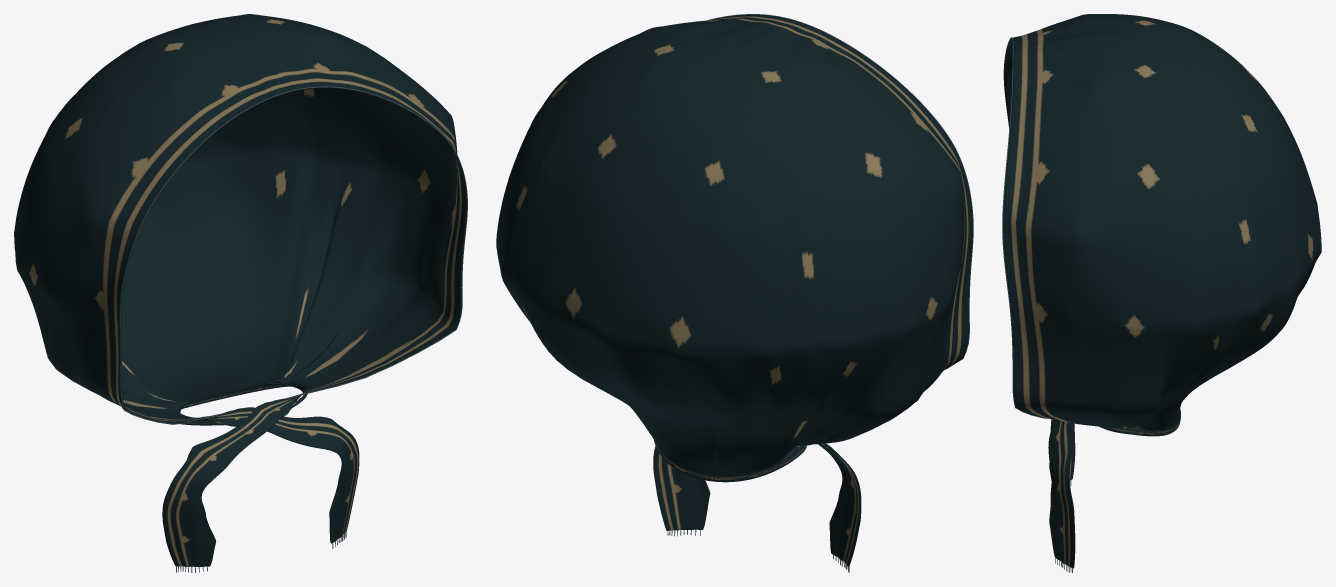
The model's file is Masculine-locs-shirtless-pashmina249-headgear.glb.
3 views of the same model, side by side, from view 1: azimuth 30°, elevation 25°; view 2: azimuth 150°, elevation 25°; view 3: azimuth 270°, elevation 25° (orthographic). The views are drawn at different scales.
Visible parts, largest first — view 1: 226 headgear / Headwear / continuous woven pashmina239, 226 headgear / Headwear / face edge239; view 2: 226 headgear / Headwear / continuous woven pashmina239, 226 headgear / Headwear / face edge239; view 3: 226 headgear / Headwear / continuous woven pashmina239, 226 headgear / Headwear / face edge239.
Boxes of the visible parts, x1,y1,x2,y2 form: 226 headgear / Headwear / continuous woven pashmina239: [14, 14, 466, 566]; 226 headgear / Headwear / face edge239: [120, 86, 467, 424]; 226 headgear / Headwear / continuous woven pashmina239: [496, 14, 972, 566]; 226 headgear / Headwear / face edge239: [708, 14, 973, 369]; 226 headgear / Headwear / continuous woven pashmina239: [1003, 14, 1321, 568]; 226 headgear / Headwear / face edge239: [1002, 37, 1047, 418].
Size of the model in its own units: 1.15 by 1.4 by 0.8232.
3 materials, 1 textured.
